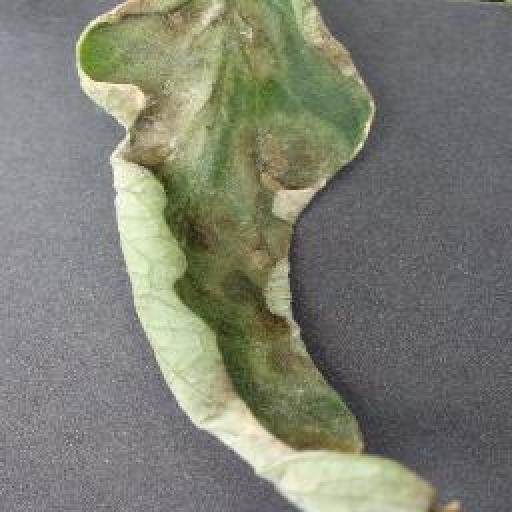Late Blight: (76, 0, 468, 512)
